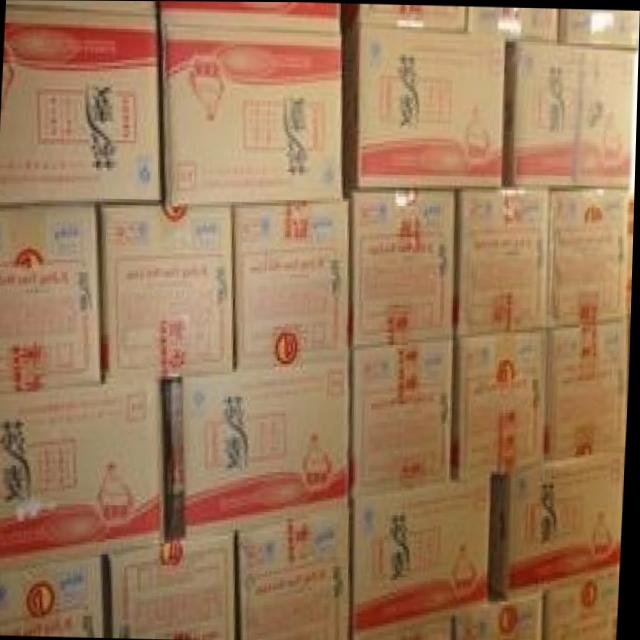box: (169, 355, 350, 543), (0, 10, 162, 208), (162, 32, 343, 206), (0, 382, 165, 567), (344, 30, 503, 191), (102, 207, 234, 381), (358, 473, 490, 631), (491, 451, 623, 603), (0, 204, 101, 393), (504, 43, 635, 186), (236, 201, 350, 365), (352, 187, 455, 349), (356, 336, 453, 501), (240, 507, 353, 640), (111, 529, 240, 637), (457, 188, 551, 333), (459, 329, 550, 478), (547, 188, 631, 326), (551, 318, 629, 459), (0, 554, 106, 634), (160, 1, 339, 30), (549, 572, 618, 640), (459, 592, 545, 640), (356, 608, 457, 640), (472, 5, 559, 41), (349, 6, 466, 30), (561, 11, 639, 46), (5, 0, 155, 13)
